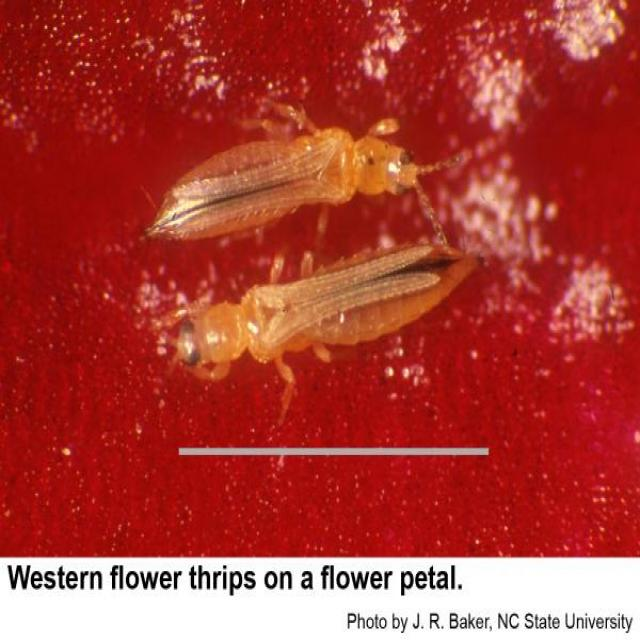Thrip-Adult-: (158, 218, 508, 394), (123, 98, 441, 264)
